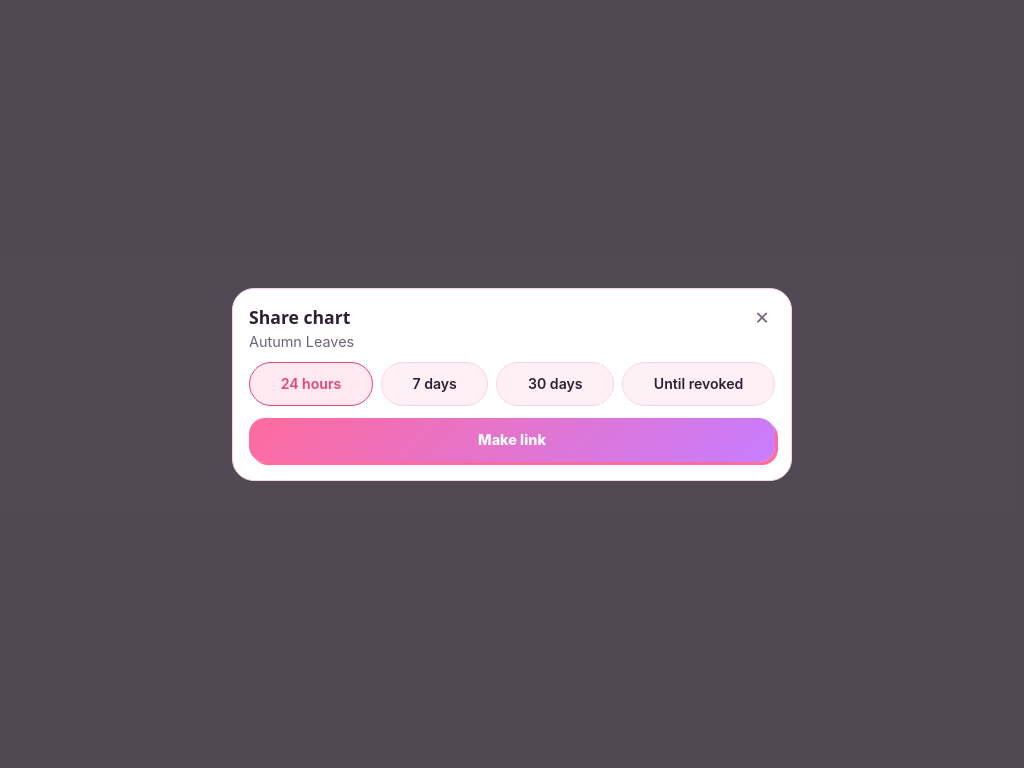
Test case: ShareSheet create › keeps the usual sentence for any other failure
Click the button "Make link".
click(512, 440)  # box [249,418,775,462]
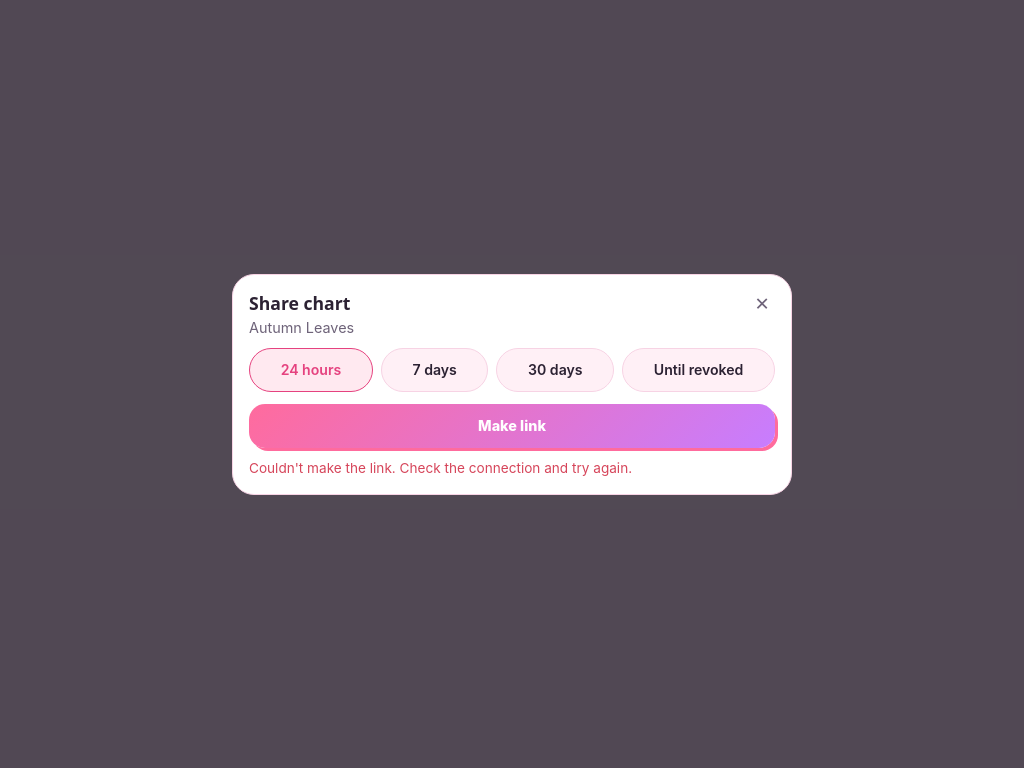
Result: the text "Couldn't make the link. Check the connection and try again." is shown at [249,460,632,476]
